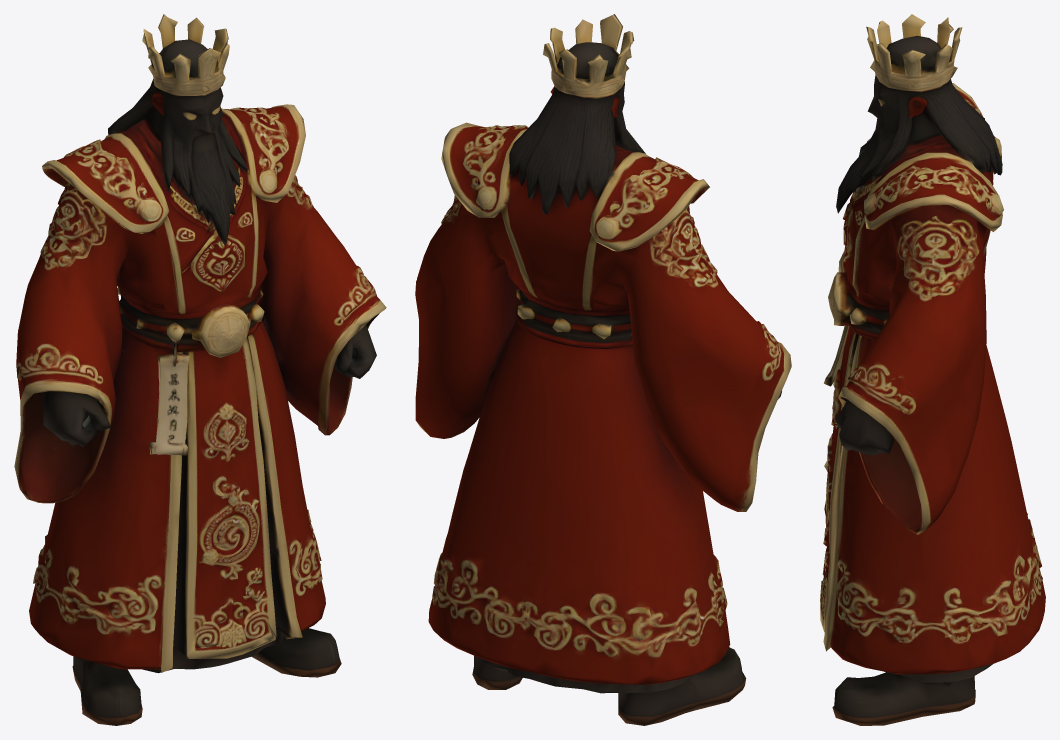
File: king.glb
The picture shows the model from 3 angles, left to right: view 1: azimuth 30°, elevation 25°; view 2: azimuth 150°, elevation 25°; view 3: azimuth 270°, elevation 25°; orthographic projection.
Parts seen in each view (by area): view 1: tripo_node_716d6bf2-7a92-471d-a797-56a8675342ae; view 2: tripo_node_716d6bf2-7a92-471d-a797-56a8675342ae; view 3: tripo_node_716d6bf2-7a92-471d-a797-56a8675342ae.
Part boxes in pixels (left/top/right/bottom): tripo_node_716d6bf2-7a92-471d-a797-56a8675342ae: left=14, top=14, right=386, bottom=725; tripo_node_716d6bf2-7a92-471d-a797-56a8675342ae: left=415, top=14, right=791, bottom=725; tripo_node_716d6bf2-7a92-471d-a797-56a8675342ae: left=820, top=14, right=1045, bottom=725.
Size of the model in its own units: 0.5808 by 1 by 0.3195.
Materials: 1 (1 with a texture image).
